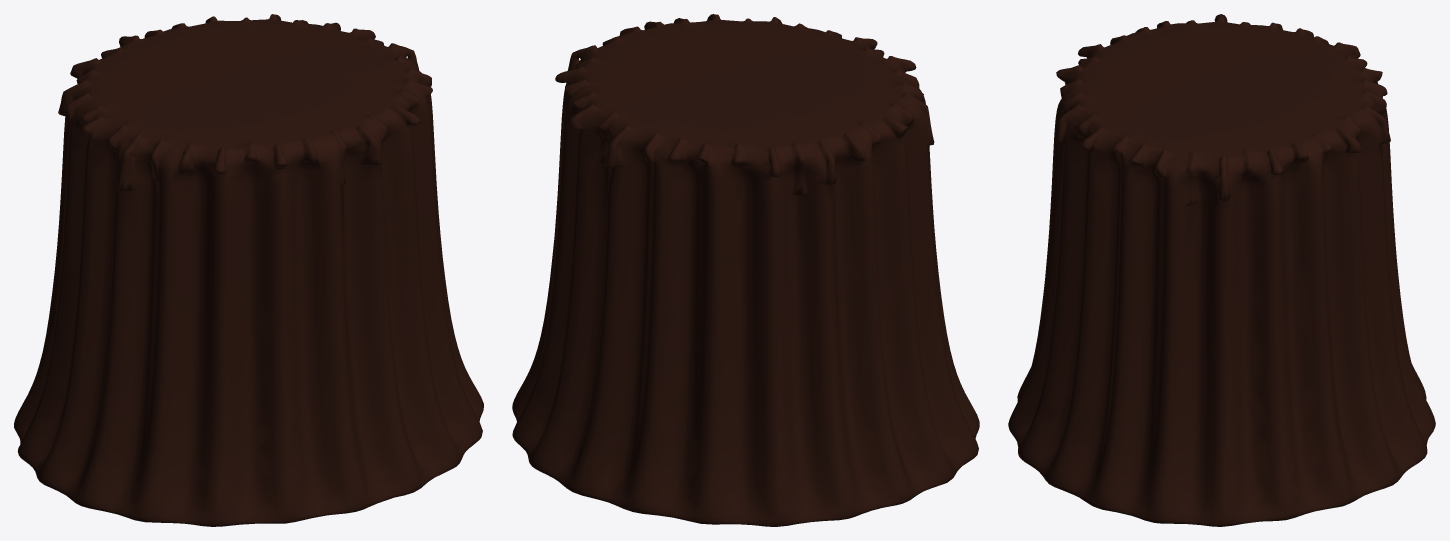
Rendered from recipe-cacao-mesa.glb.
3 renders of one model, left to right at view 1: azimuth 30°, elevation 25°; view 2: azimuth 150°, elevation 25°; view 3: azimuth 270°, elevation 25°, orthographic. The views are drawn at different scales.
Parts seen in each view (by area): view 1: Cacao mesa with fused chocolate curtains; view 2: Cacao mesa with fused chocolate curtains; view 3: Cacao mesa with fused chocolate curtains.
Boxes of the visible parts, <box> form: Cacao mesa with fused chocolate curtains: <box>14,14,483,526</box>; Cacao mesa with fused chocolate curtains: <box>512,14,979,526</box>; Cacao mesa with fused chocolate curtains: <box>1008,14,1435,526</box>.
Bounding box in the file's own units: 9.83 × 8.02 × 8.94.
